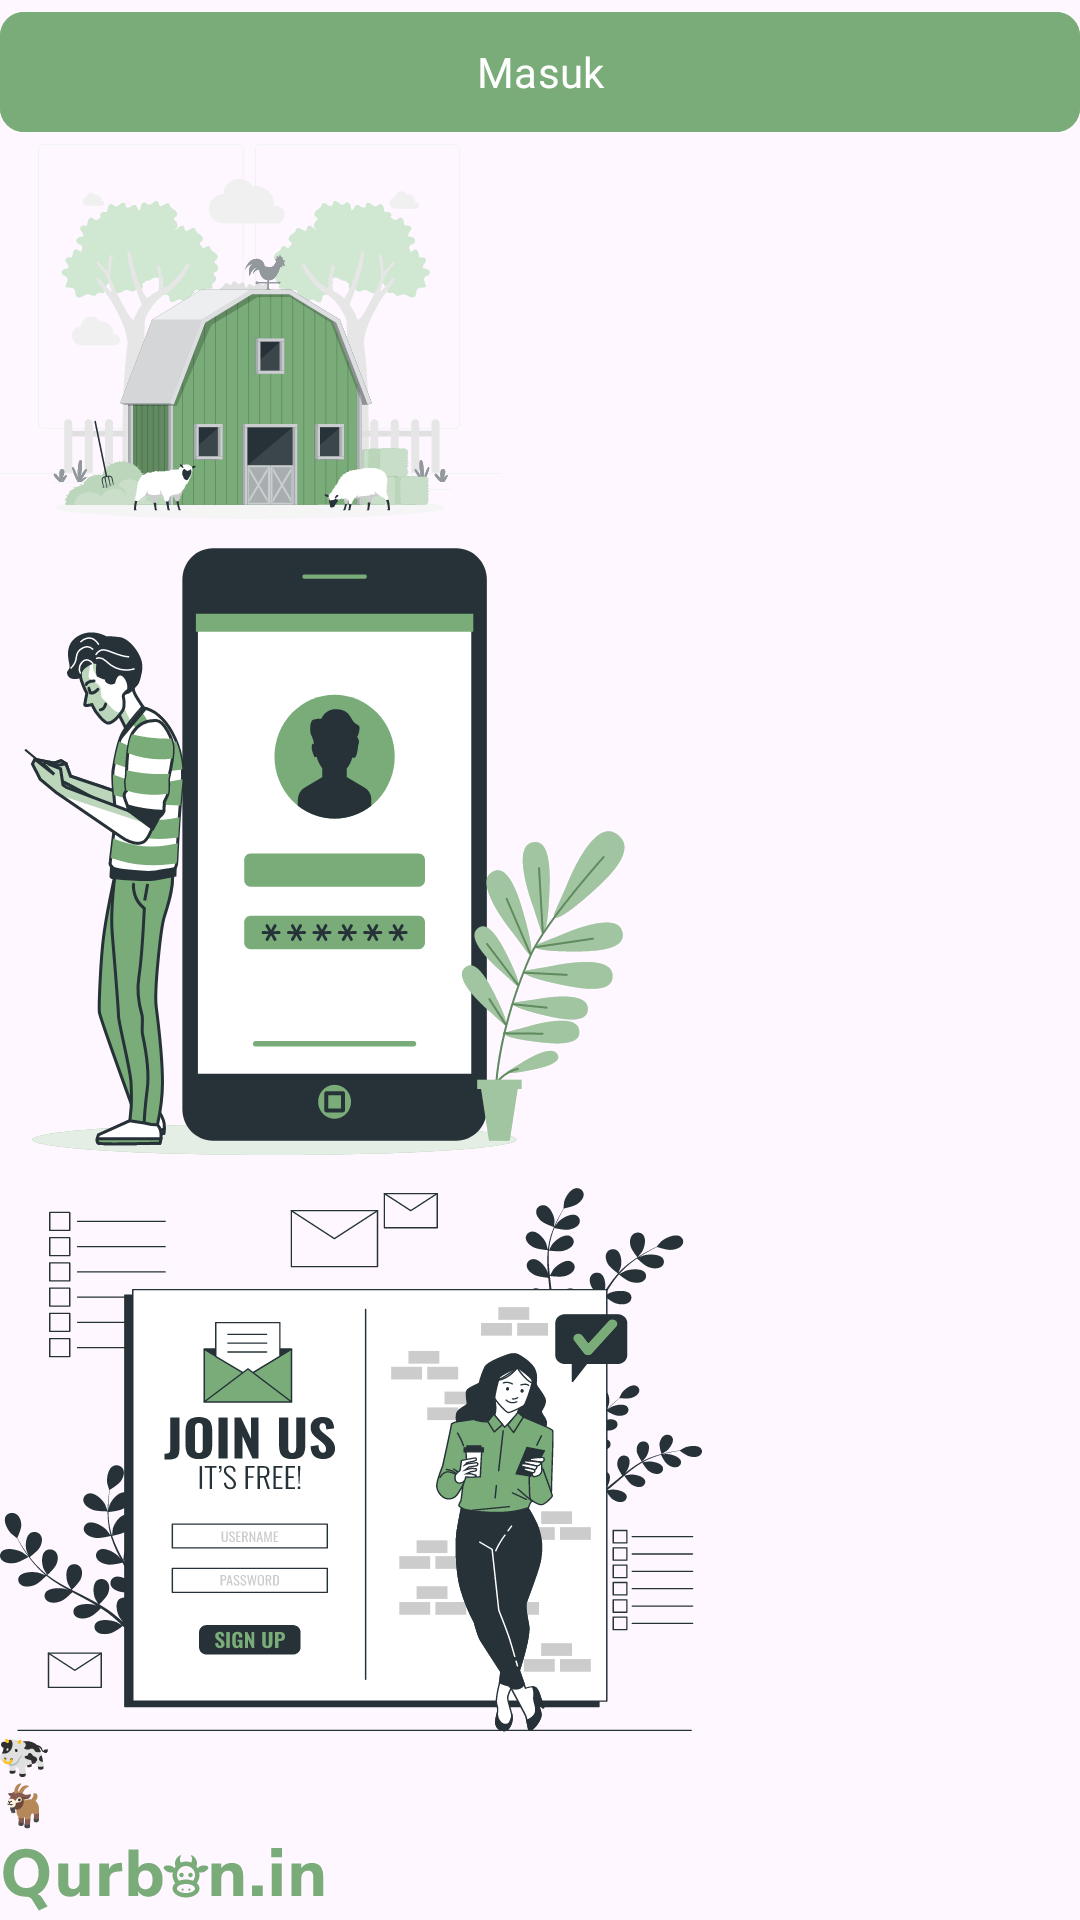

Icon click points for this 1080x1920 phone screenshot, format [x,y]:
cow: [24,1758]
goat: [23,1806]
